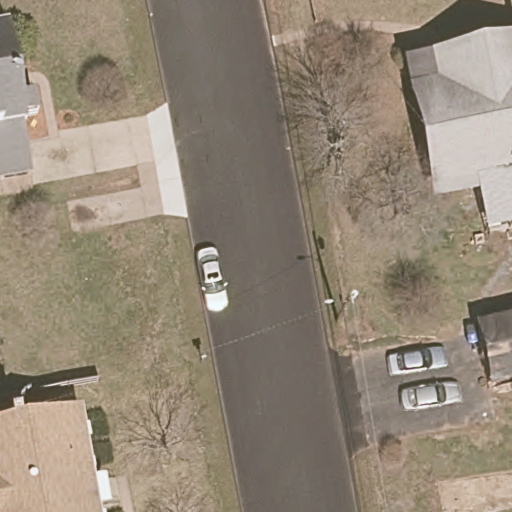DT: (323, 289, 359, 323)
